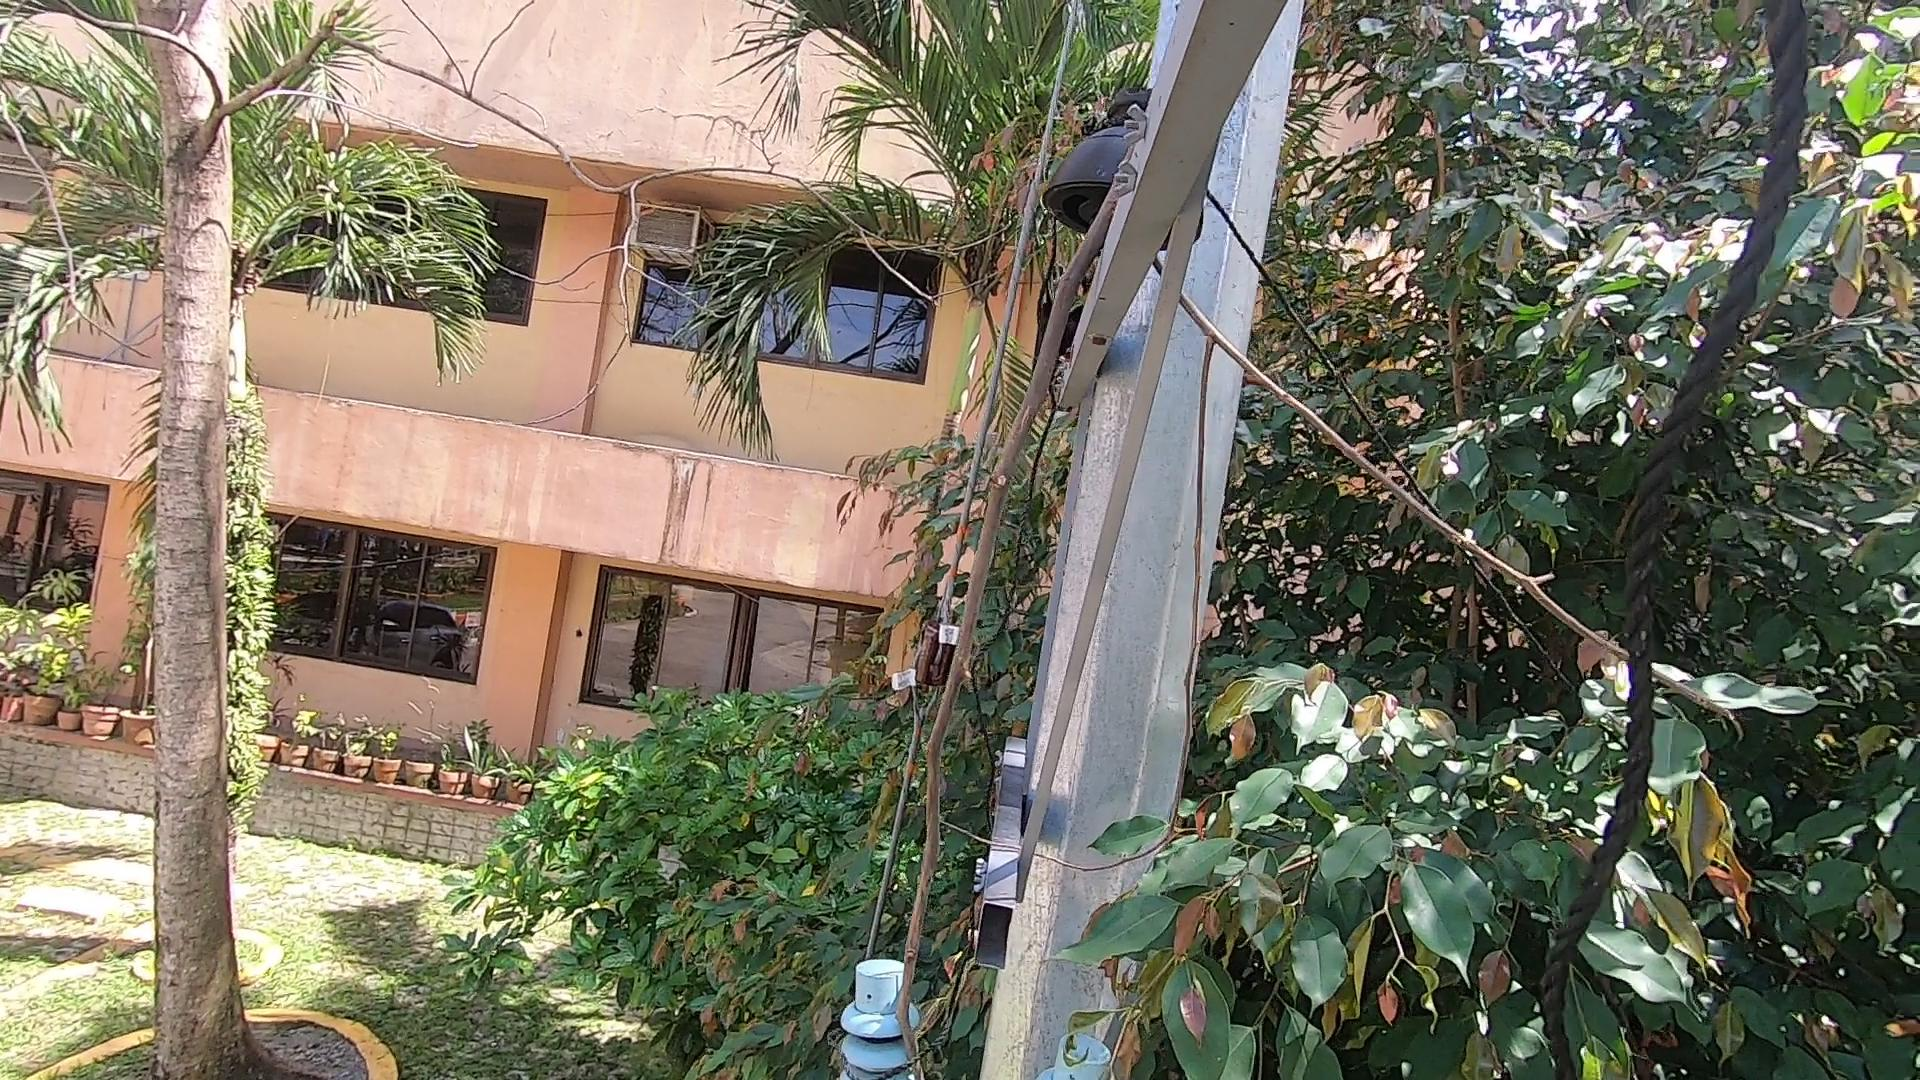branch with leaves: (1035, 787, 1316, 1080)
tree branch: (845, 3, 1145, 1080)
